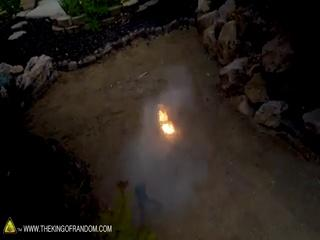Fire: (153, 107, 176, 139)
